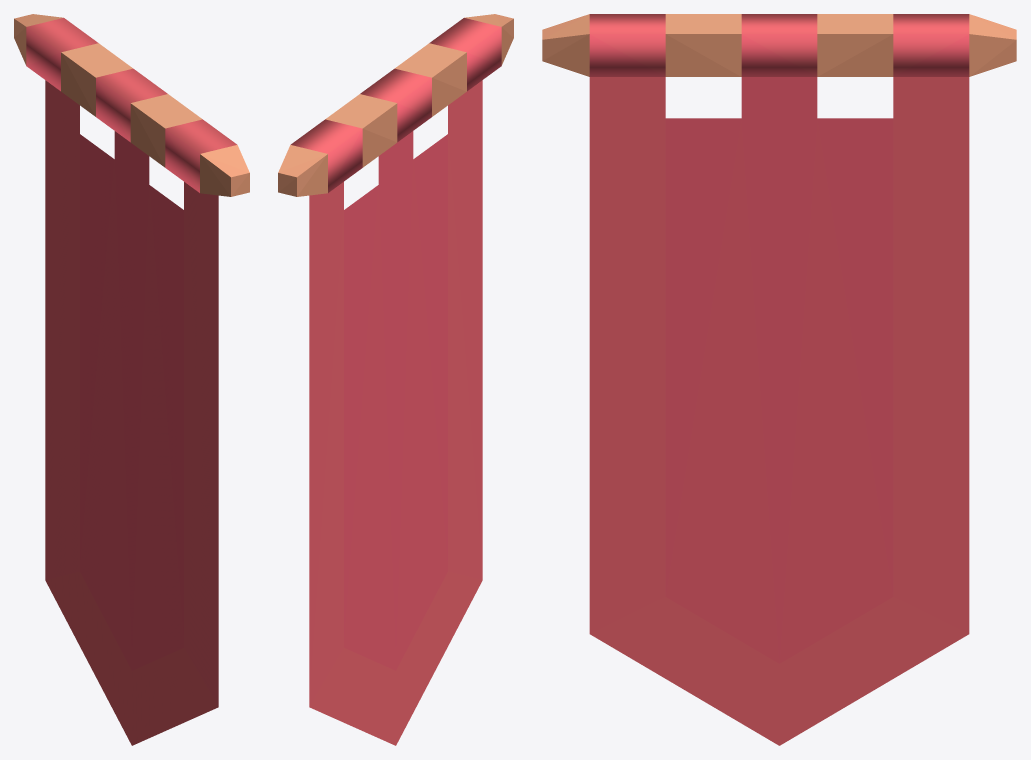
Rendered from kenney_town_banner_red.glb.
3 renders of one model, left to right at view 1: azimuth 30°, elevation 25°; view 2: azimuth 150°, elevation 25°; view 3: azimuth 270°, elevation 25°, orthographic. The views are drawn at different scales.
Parts seen in each view (by area): view 1: wood, cloth; view 2: wood, cloth; view 3: wood, cloth.
Part boxes in pixels (left/top/right/bottom): wood: left=14, top=14, right=249, bottom=670; cloth: left=26, top=18, right=236, bottom=745; wood: left=278, top=14, right=513, bottom=670; cloth: left=291, top=18, right=501, bottom=745; wood: left=542, top=14, right=1016, bottom=663; cloth: left=589, top=14, right=969, bottom=745.
Bounding box in the file's own units: 0.05 × 0.8394 × 0.5.
